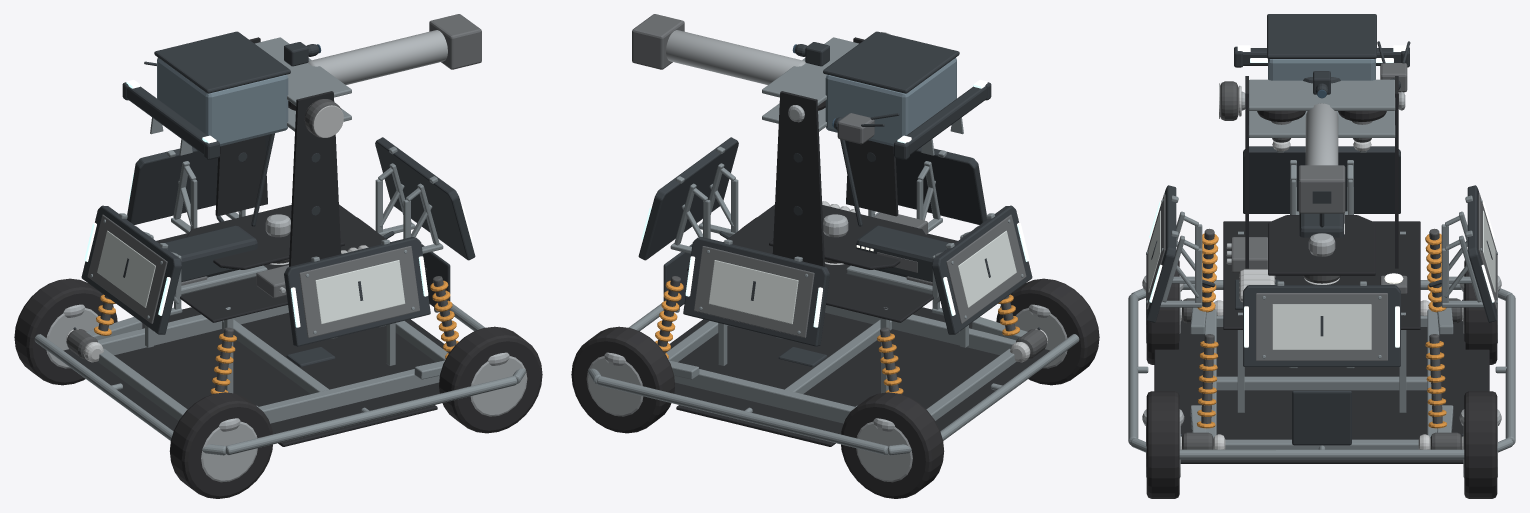
File: robot-101-spec2026v3.glb
3 renders of one model, left to right at view 1: azimuth 30°, elevation 25°; view 2: azimuth 150°, elevation 25°; view 3: azimuth 270°, elevation 25°, orthographic. The views are drawn at different scales.
Visible parts, largest first — view 1: Chassis_CarbonPlate, Chassis_RobotMatteAluminum, Turret_CarbonPlate, MagazineBox, SwerveTyre, SwerveTyre.002, MagazineLid, ArmorModuleBody.001, SwerveTyre.001, Chassis_RobotMatteGraphite, ArmorModuleBody, GunPitch_MachinedAlloy (+19 smaller); view 2: Chassis_CarbonPlate, Chassis_RobotMatteAluminum, Turret_CarbonPlate, SwerveTyre.001, MagazineBox, SwerveTyre.003, MagazineLid, ArmorModuleBody.003, SwerveTyre, ArmorModuleBody, Chassis_RobotMatteGraphite, GunPitch_MachinedAlloy (+20 smaller); view 3: Chassis_CarbonPlate, Chassis_RobotMatteAluminum, Turret_CarbonPlate, ArmorModuleBody.002, GunPitch_RobotMatteAluminum, MagazineLid, Chassis_RobotMatteGraphite, ArmorSticker, ArmorHitFace, Chassis_MotorHousing, SwerveTyre.002, SwerveTyre.003 (+24 smaller).
Part boxes in pixels (x1,y1,x2,y2): Chassis_CarbonPlate: (63,204,448,446); Chassis_RobotMatteAluminum: (34,265,526,455); Turret_CarbonPlate: (186,37,344,269); MagazineBox: (157,58,288,146); SwerveTyre: (169,392,272,498); SwerveTyre.002: (439,326,542,433); MagazineLid: (154,31,290,93); ArmorModuleBody.001: (127,134,269,224); SwerveTyre.001: (14,278,117,385); Chassis_RobotMatteGraphite: (73,225,450,366); ArmorModuleBody: (375,137,475,260); GunPitch_MachinedAlloy: (308,30,447,84); Chassis_CarbonPlate: (665,204,1050,446); Chassis_RobotMatteAluminum: (587,265,1079,455); Turret_CarbonPlate: (769,37,927,269); SwerveTyre.001: (841,392,944,498); MagazineBox: (825,58,956,146); SwerveTyre.003: (571,326,674,433); MagazineLid: (823,31,959,93); ArmorModuleBody.003: (845,140,986,224); SwerveTyre: (996,278,1099,385); ArmorModuleBody: (638,137,738,260); Chassis_RobotMatteGraphite: (663,225,1040,366); GunPitch_MachinedAlloy: (666,30,805,84); Chassis_CarbonPlate: (1154,221,1489,463); Chassis_RobotMatteAluminum: (1128,211,1515,459); Turret_CarbonPlate: (1245,76,1398,275); ArmorModuleBody.002: (1243,146,1400,213); GunPitch_RobotMatteAluminum: (1248,79,1395,137); MagazineLid: (1267,14,1376,58); Chassis_RobotMatteGraphite: (1180,213,1463,445); ArmorSticker: (1272,304,1371,349); ArmorHitFace: (1256,293,1387,360); Chassis_MotorHousing: (1182,228,1461,449); SwerveTyre.002: (1146,391,1179,498); SwerveTyre.003: (1464,391,1497,498).
Bounding box in the file's own units: 0.7365 × 0.672 × 0.6465.
